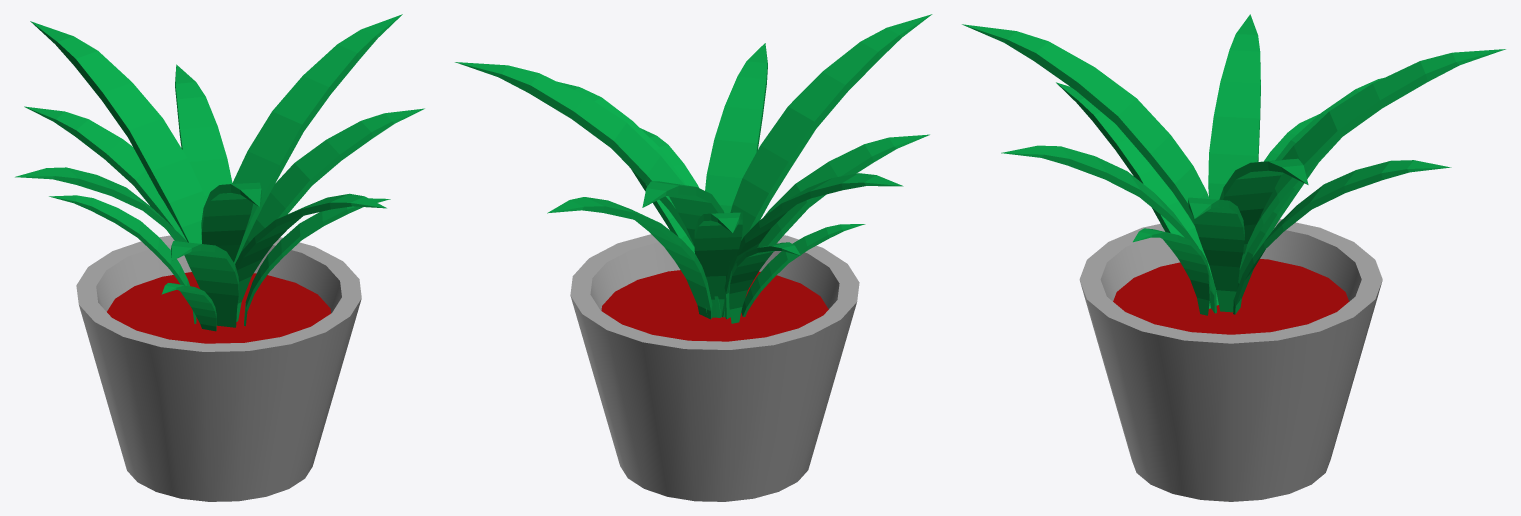
Rendered from Office_Plant.fbx.
3 renders of one model, left to right at view 1: azimuth 30°, elevation 25°; view 2: azimuth 150°, elevation 25°; view 3: azimuth 270°, elevation 25°, orthographic. The views are drawn at different scales.
Visible parts, largest first — view 1: PlantPot, Leaf9, Leaf8, Leaf6, Leaf2, Leaf3, Leaf4, Leaf7, Leaf1, Leaf10, Leaf5, Leaf11 (+1 smaller); view 2: PlantPot, Leaf7, Leaf8, Leaf1, Leaf4, Leaf2, Leaf3, Leaf5, Leaf9, Leaf10, Leaf12, Leaf6 (+1 smaller); view 3: PlantPot, Leaf7, Leaf5, Leaf9, Leaf6, Leaf2, Leaf4, Leaf1, Leaf8, Leaf11, Leaf3.
Part boxes in pixels (<box>): PlantPot: <box>76,235,361,501</box>; Leaf9: <box>30,21,205,243</box>; Leaf8: <box>232,14,402,263</box>; Leaf6: <box>240,108,424,254</box>; Leaf2: <box>175,64,232,200</box>; Leaf3: <box>24,106,186,240</box>; Leaf4: <box>170,241,238,327</box>; Leaf7: <box>201,182,261,262</box>; Leaf1: <box>235,193,386,321</box>; Leaf10: <box>49,195,196,323</box>; Leaf5: <box>15,167,187,242</box>; Leaf11: <box>244,198,390,326</box>; PlantPot: <box>570,234,859,501</box>; Leaf7: <box>722,14,932,317</box>; Leaf8: <box>455,62,721,317</box>; Leaf1: <box>705,43,767,212</box>; Leaf4: <box>757,134,929,247</box>; Leaf2: <box>547,197,712,319</box>; Leaf3: <box>694,212,742,317</box>; Leaf5: <box>724,173,903,318</box>; Leaf9: <box>642,181,729,317</box>; Leaf10: <box>729,242,800,323</box>; Leaf12: <box>741,224,865,316</box>; Leaf6: <box>557,81,694,253</box>; PlantPot: <box>1079,219,1382,501</box>; Leaf7: <box>962,24,1209,225</box>; Leaf5: <box>1208,14,1260,199</box>; Leaf9: <box>1239,49,1505,269</box>; Leaf6: <box>1188,197,1244,312</box>; Leaf2: <box>1233,160,1451,314</box>; Leaf4: <box>1056,82,1218,308</box>; Leaf1: <box>1001,145,1216,313</box>; Leaf8: <box>1219,158,1308,271</box>; Leaf11: <box>1133,228,1210,315</box>; Leaf3: <box>1237,77,1384,305</box>.
Bounding box in the file's own units: 5.11 × 4.33 × 5.49.
